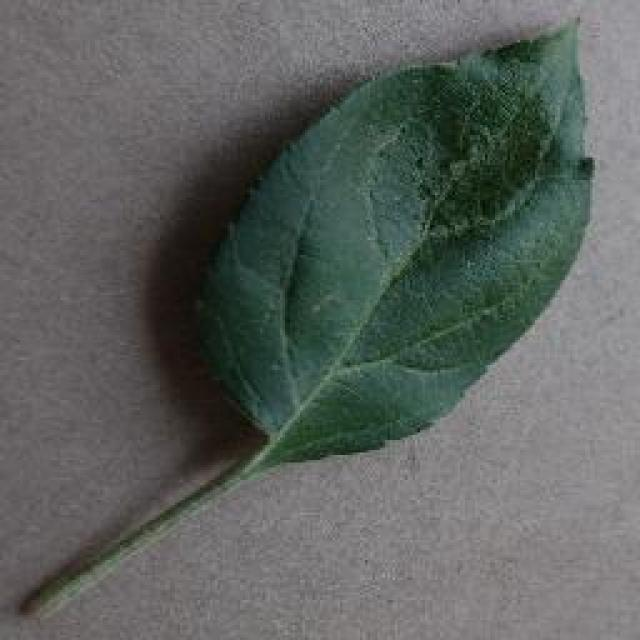apple healthy: (18, 12, 598, 620)
